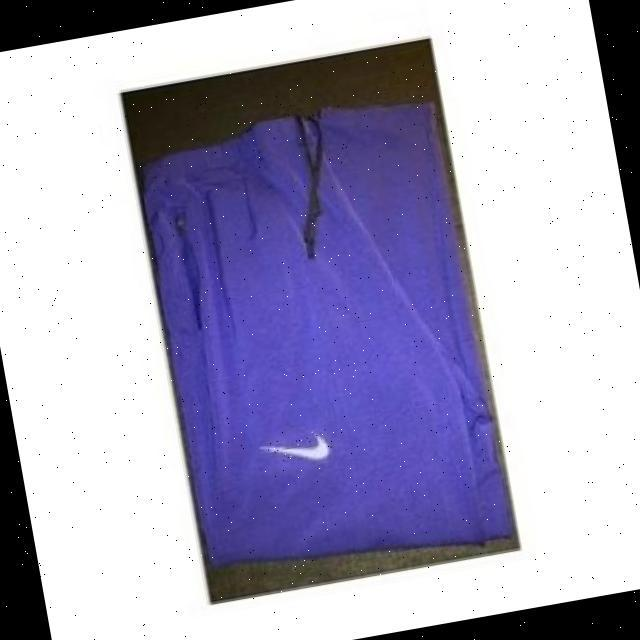Nike: (263, 429, 333, 466)
